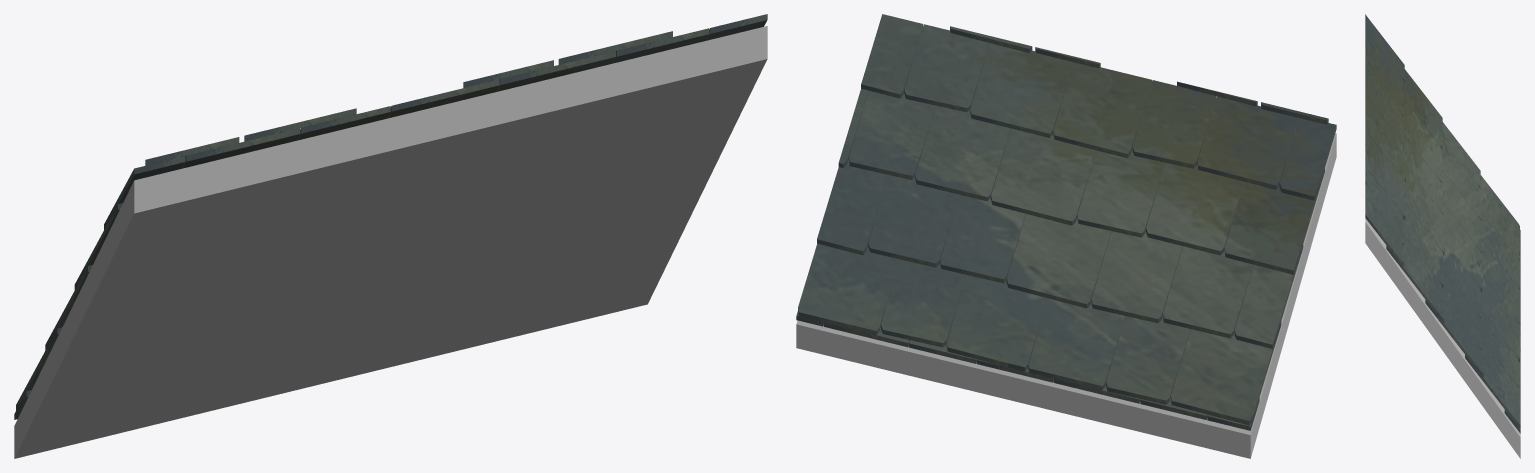
Rendered from CM_SlateRoofKit01_Panel2x1p2_56p9.fbx.
3 views of the same model, side by side, from view 1: azimuth 30°, elevation 25°; view 2: azimuth 150°, elevation 25°; view 3: azimuth 270°, elevation 25° (orthographic). The views are drawn at different scales.
Parts seen in each view (by area): view 1: CM_SlateRoofKit01_Panel2x1p2_56p9_Underlay, CM_SlateRoofKit01_Panel2x1p2_56p9_Slate; view 2: CM_SlateRoofKit01_Panel2x1p2_56p9_Slate, CM_SlateRoofKit01_Panel2x1p2_56p9_Underlay; view 3: CM_SlateRoofKit01_Panel2x1p2_56p9_Slate, CM_SlateRoofKit01_Panel2x1p2_56p9_Underlay.
Part boxes in pixels (x1,y1,x2,y2): CM_SlateRoofKit01_Panel2x1p2_56p9_Underlay: [14, 26, 767, 458]; CM_SlateRoofKit01_Panel2x1p2_56p9_Slate: [14, 14, 767, 419]; CM_SlateRoofKit01_Panel2x1p2_56p9_Slate: [796, 14, 1336, 430]; CM_SlateRoofKit01_Panel2x1p2_56p9_Underlay: [796, 133, 1336, 458]; CM_SlateRoofKit01_Panel2x1p2_56p9_Slate: [1365, 14, 1520, 433]; CM_SlateRoofKit01_Panel2x1p2_56p9_Underlay: [1365, 218, 1520, 458].
Bounding box in the file's own units: 2 × 1.16 × 0.6553.
